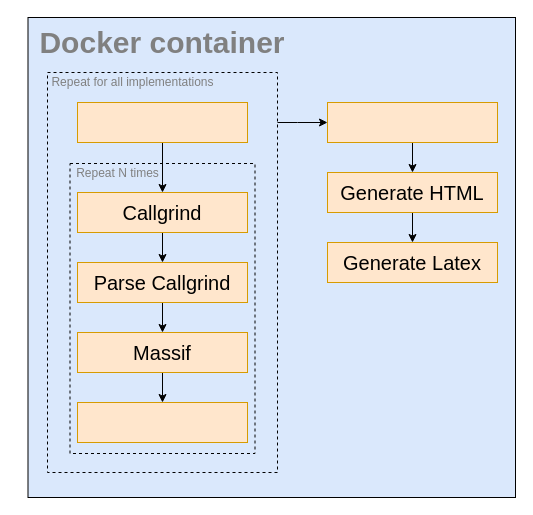
This 533x515 diagram has some shape labels left out. The shapes that lost their labels are listed below. From the top down, each one's centre as x and y in pixels, then its label:
[162,122]: Compile
[412,122]: Generate Graph
[162,422]: Parse Massif
